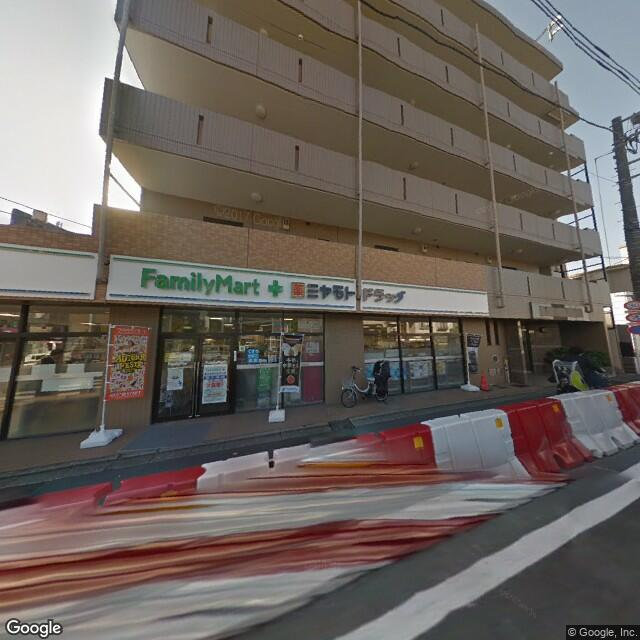family_mart: (128, 262, 268, 302)
